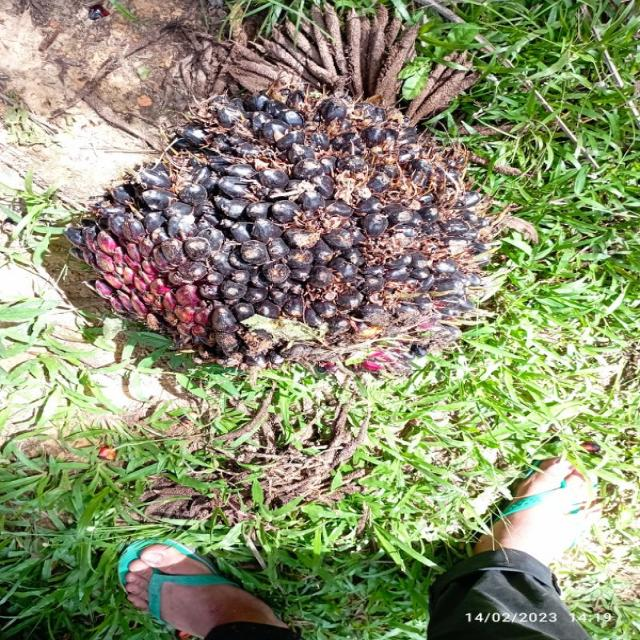fraksi 00: (71, 93, 502, 374)
